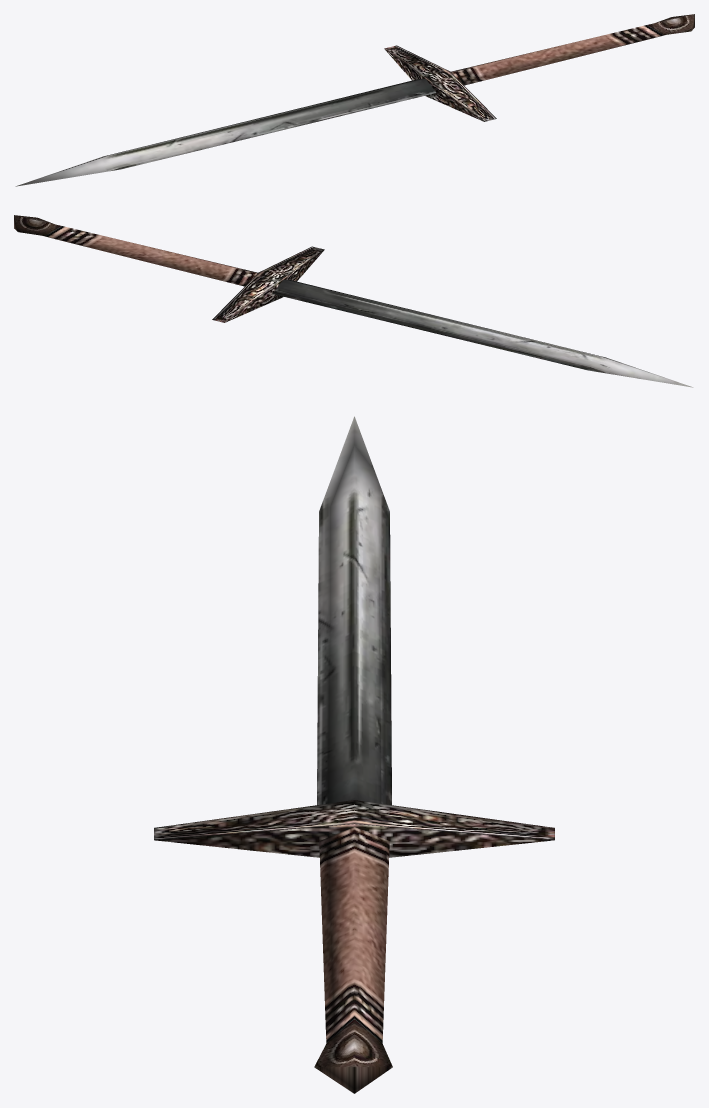
File: ITMW_005_1H_DAGGER_01.glb
The picture shows the model from 3 angles, top to bottom: view 1: azimuth 30°, elevation 25°; view 2: azimuth 150°, elevation 25°; view 3: azimuth 270°, elevation 25°; orthographic projection. The views are drawn at different scales.
Parts seen in each view (by area): view 1: Mesh; view 2: Mesh; view 3: Mesh.
Boxes of the visible parts, x1=… form: Mesh: x1=15, y1=14, x2=694, y2=186; Mesh: x1=14, y1=215, x2=693, y2=387; Mesh: x1=154, y1=416, x2=554, y2=1093.
Size of the model in its own units: 0.7999 by 0.021 by 0.204.
2 materials, 2 textured.
